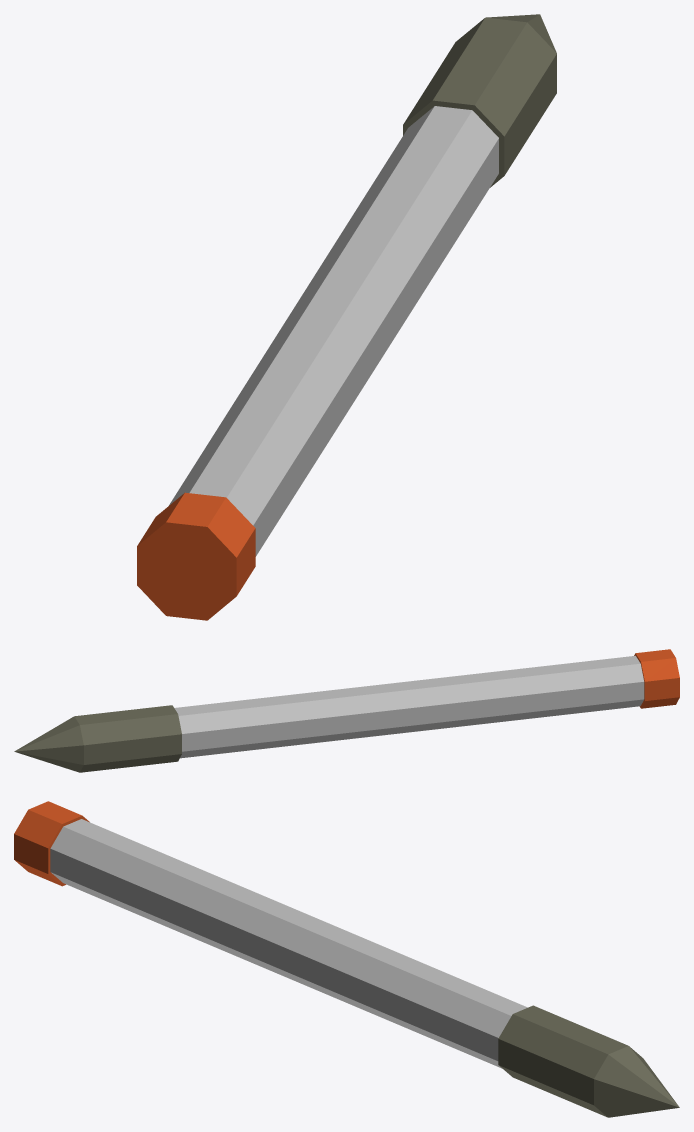
File: ce_ammo2_s5_thermo_a.obj
3 renders of one model, top to bottom at view 1: azimuth 30°, elevation 25°; view 2: azimuth 150°, elevation 25°; view 3: azimuth 270°, elevation 25°, orthographic. The views are drawn at different scales.
Visible parts, largest first — view 1: ce_ammo2_s5_thermo_a_1, ce_ammo2_s5_thermo_a_2, ce_ammo2_s5_thermo_a_0; view 2: ce_ammo2_s5_thermo_a_1, ce_ammo2_s5_thermo_a_2, ce_ammo2_s5_thermo_a_3, ce_ammo2_s5_thermo_a_0; view 3: ce_ammo2_s5_thermo_a_1, ce_ammo2_s5_thermo_a_2, ce_ammo2_s5_thermo_a_3, ce_ammo2_s5_thermo_a_0.
Part boxes in pixels (x1,y1,x2,y2): ce_ammo2_s5_thermo_a_1: (169, 106, 498, 556); ce_ammo2_s5_thermo_a_2: (403, 17, 556, 187); ce_ammo2_s5_thermo_a_0: (137, 492, 255, 620); ce_ammo2_s5_thermo_a_1: (174, 655, 644, 758); ce_ammo2_s5_thermo_a_2: (74, 705, 181, 772); ce_ammo2_s5_thermo_a_3: (14, 716, 83, 772); ce_ammo2_s5_thermo_a_0: (634, 649, 679, 708); ce_ammo2_s5_thermo_a_1: (50, 819, 527, 1068); ce_ammo2_s5_thermo_a_2: (498, 1005, 628, 1117); ce_ammo2_s5_thermo_a_3: (594, 1046, 679, 1117); ce_ammo2_s5_thermo_a_0: (14, 801, 89, 886).
Size of the model in its own units: 0.6898 by 0.0724 by 0.6898.
